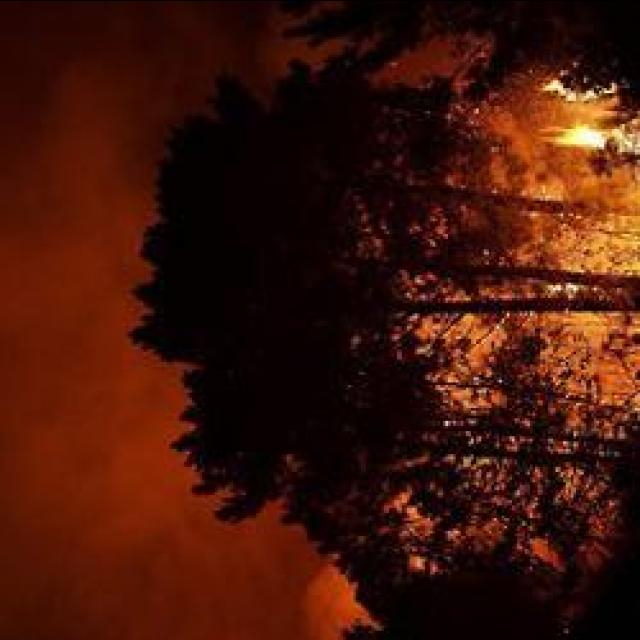fire: (556, 115, 640, 161)
smoke: (0, 380, 158, 538), (28, 68, 138, 202), (294, 568, 348, 640)
